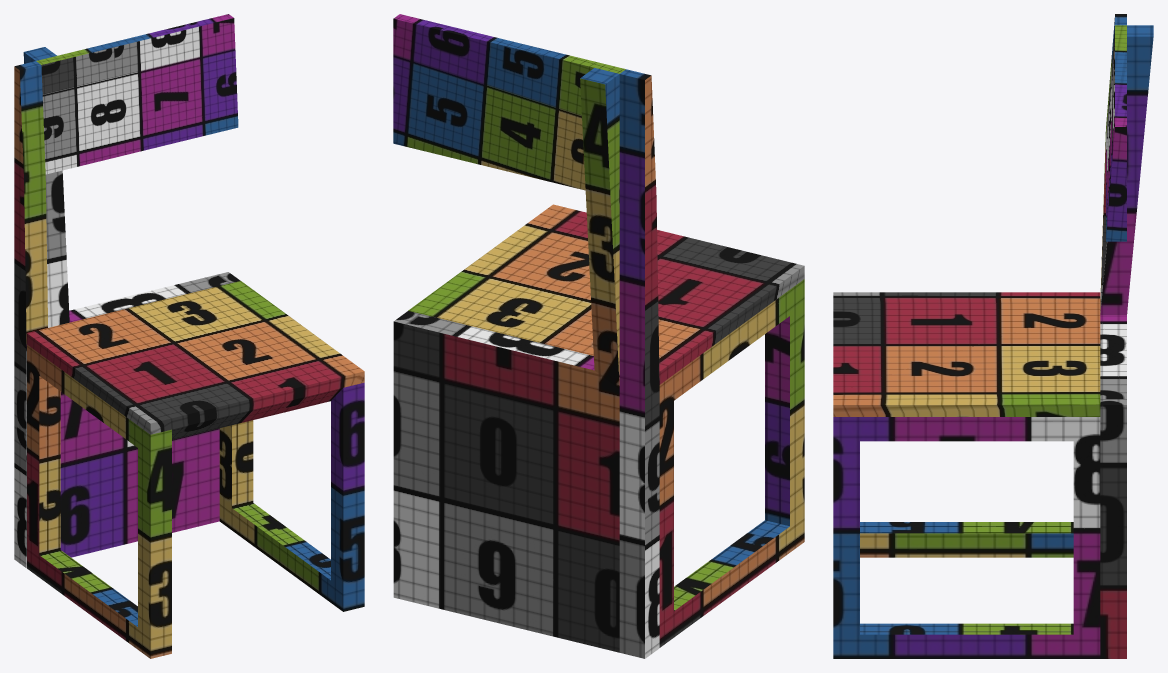
File: Metal_Chair_1.FBX
The picture shows the model from 3 angles, left to right: view 1: azimuth 30°, elevation 25°; view 2: azimuth 150°, elevation 25°; view 3: azimuth 270°, elevation 25°; orthographic projection. The views are drawn at different scales.
Parts seen in each view (by area): view 1: Metal_Chair_1; view 2: Metal_Chair_1; view 3: Metal_Chair_1.
Boxes of the visible parts, x1,y1,x2,y2 form: Metal_Chair_1: [14, 14, 364, 658]; Metal_Chair_1: [393, 14, 804, 658]; Metal_Chair_1: [833, 14, 1153, 658].
Bounding box in the file's own units: 0.6311 × 1.39 × 0.7564.
Materials: 1 (1 with a texture image).
